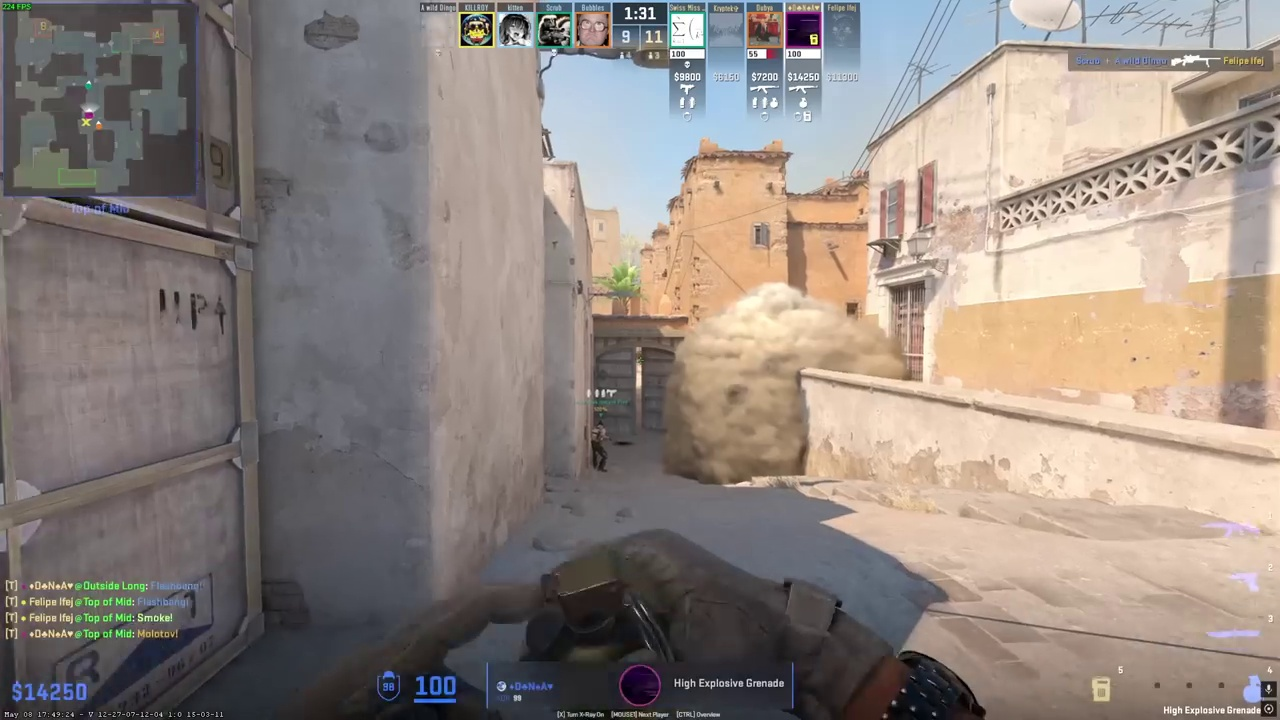Terrorist: (589, 420, 609, 472)
